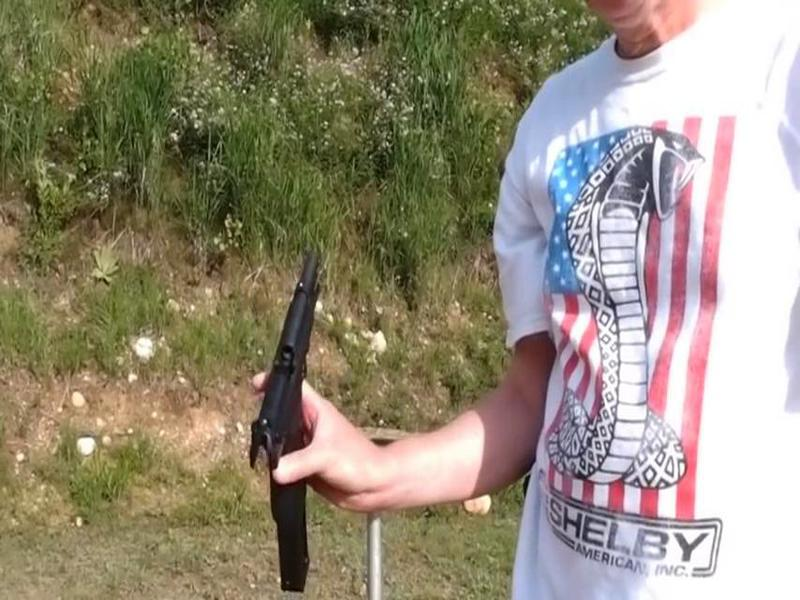Pistola: (233, 229, 371, 600)
